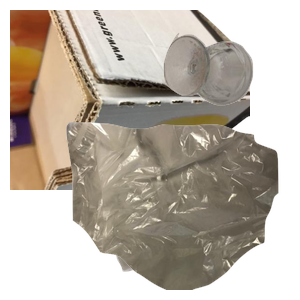cardboard: (10, 10, 250, 190)
glass: (161, 30, 300, 128)
plastic: (85, 163, 235, 300)
trash: (64, 120, 300, 300)
